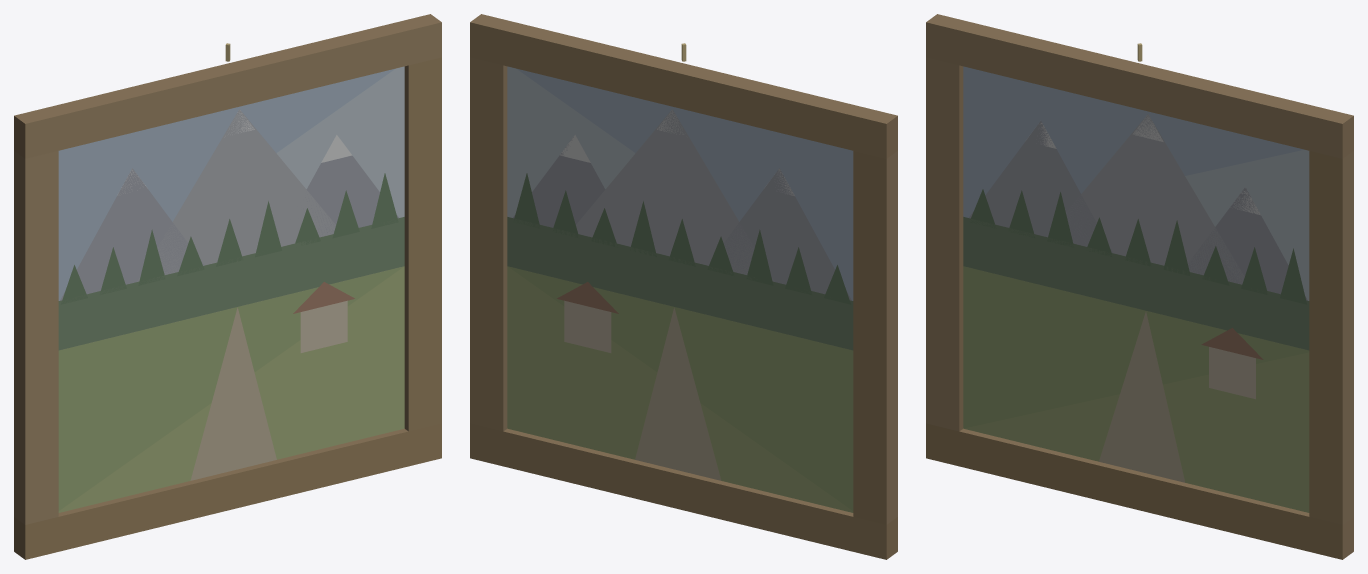
Rendered from wandbild_quadrat.glb.
3 renders of one model, left to right at view 1: azimuth 30°, elevation 25°; view 2: azimuth 150°, elevation 25°; view 3: azimuth 330°, elevation 25°, orthographic.
Visible parts, largest first — view 1: bild; view 2: bild; view 3: bild.
Boxes of the visible parts, x1,y1,x2,y2 form: bild: (14, 14, 441, 559); bild: (470, 14, 897, 559); bild: (926, 14, 1353, 559).
Bounding box in the file's own units: 1.06 × 1.12 × 0.05.
